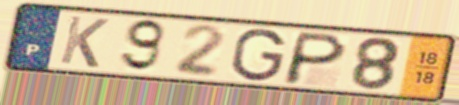2: (172, 23, 228, 80)
8: (347, 36, 402, 92)
9: (116, 18, 168, 75)
G: (229, 27, 288, 83)
K: (57, 13, 112, 70)
P: (278, 30, 350, 87)
